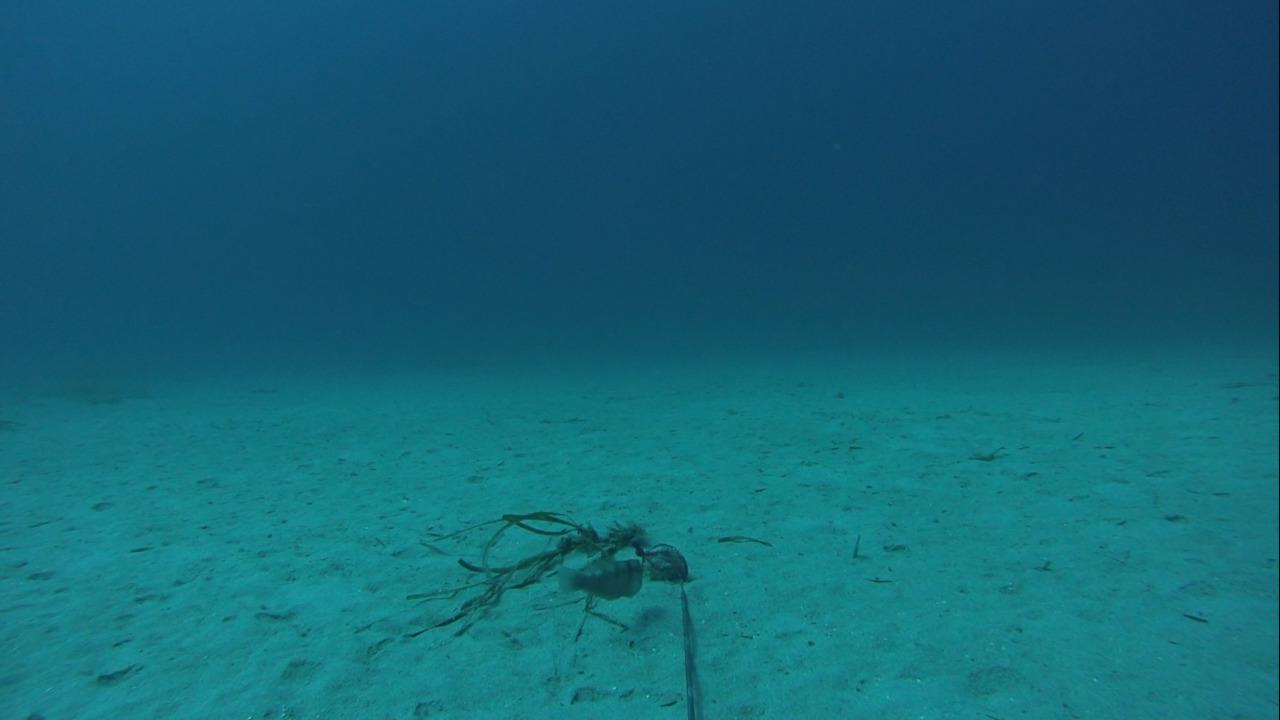raor: (550, 554, 646, 603)
